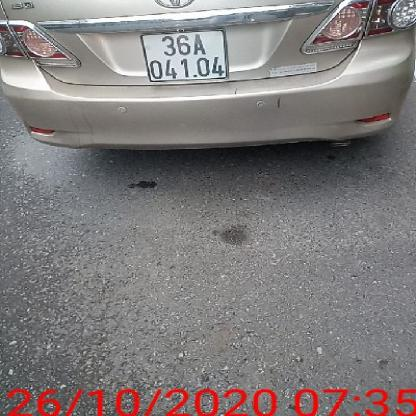biensoxe: (139, 28, 235, 83)
